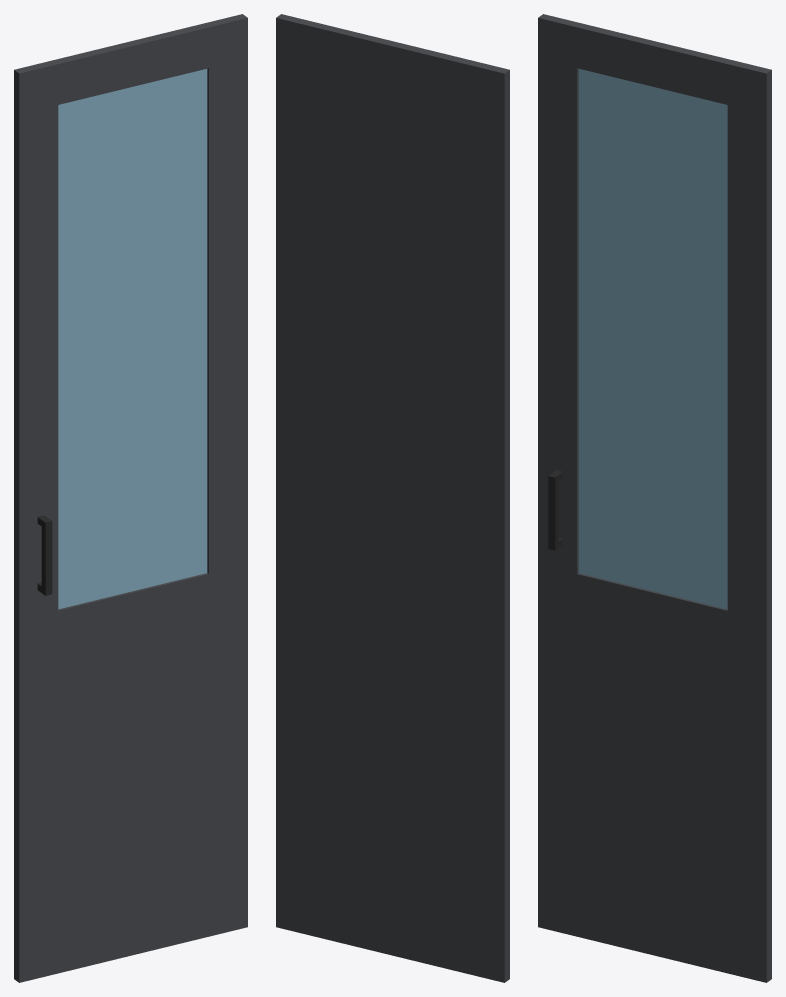
File: Wardrobe1_C2_04.fbx
3 views of the same model, side by side, from view 1: azimuth 30°, elevation 25°; view 2: azimuth 150°, elevation 25°; view 3: azimuth 330°, elevation 25° (orthographic).
Parts seen in each view (by area): view 1: Wardrobe1_C2_04; view 2: Wardrobe1_C2_04; view 3: Wardrobe1_C2_04.
Part boxes in pixels (box(x1,y1,x2,y2)): Wardrobe1_C2_04: box(14, 14, 247, 982); Wardrobe1_C2_04: box(276, 14, 509, 982); Wardrobe1_C2_04: box(538, 14, 771, 982).
Bounding box in the file's own units: 50 × 190 × 5.02.
